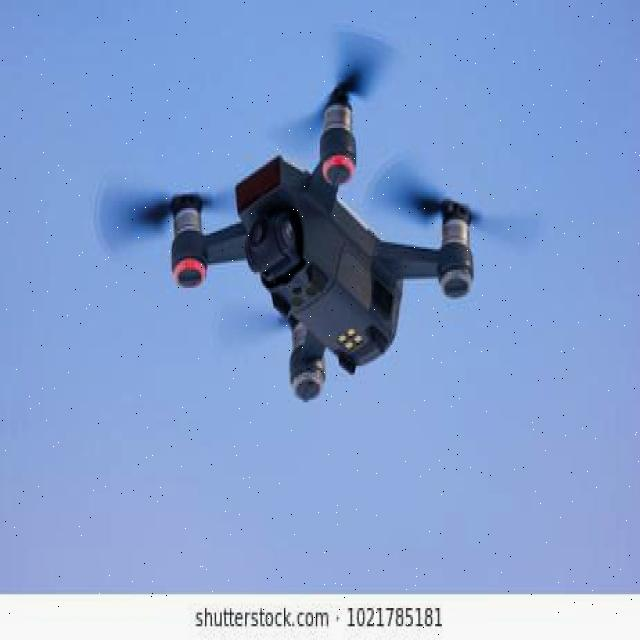drone: (87, 0, 558, 434)
